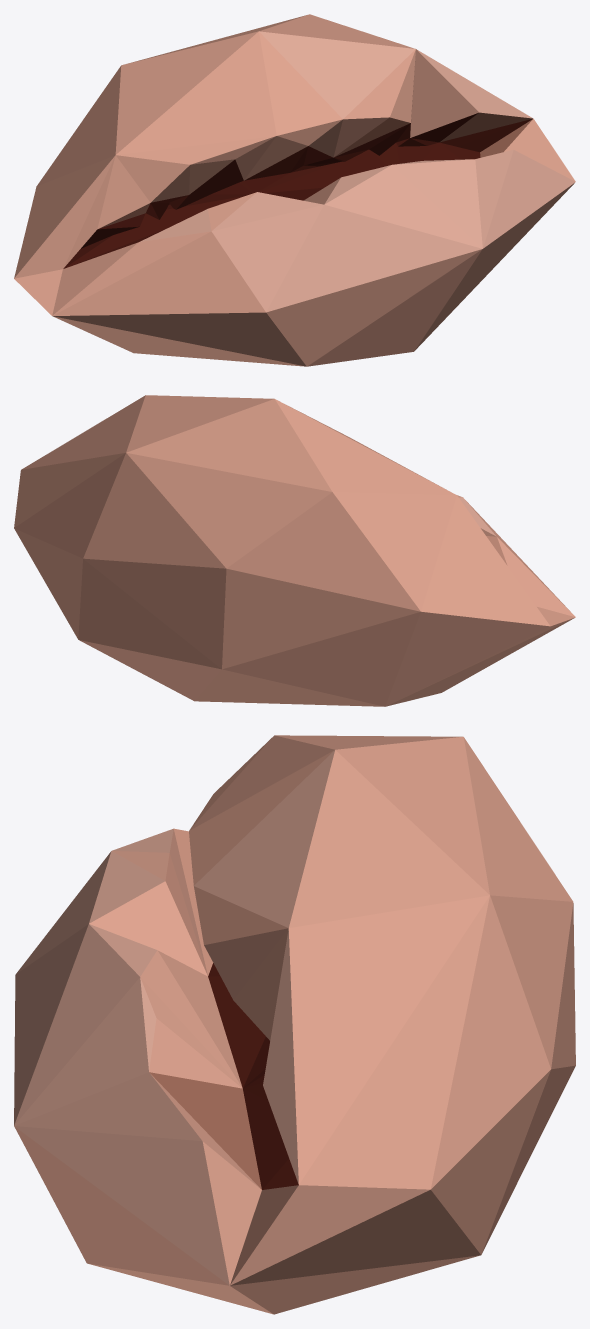
File: shell-cowrie.glb
3 views of the same model, one above another, from view 1: azimuth 30°, elevation 25°; view 2: azimuth 150°, elevation 25°; view 3: azimuth 270°, elevation 25° (orthographic). The views are drawn at different scales.
Parts seen in each view (by area): view 1: shell-cowrie; view 2: shell-cowrie; view 3: shell-cowrie.
Boxes of the visible parts, box(x1,y1,x2,y2) form: shell-cowrie: box(14, 14, 575, 366); shell-cowrie: box(14, 395, 575, 706); shell-cowrie: box(14, 735, 575, 1314).
Size of the model in its own units: 0.0926 by 0.046 by 0.0517.
